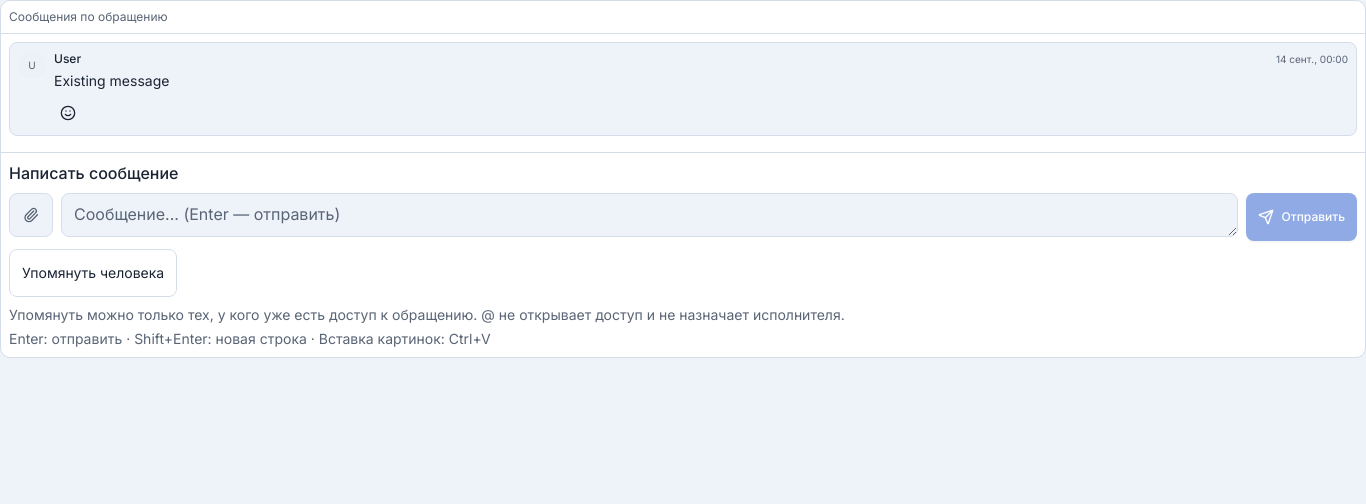
disconnect settles a send immediately and disables retry until the next successful join
This screenshot has width=1366, height=504.
expect the text "Existing message" is shown: met, box [54, 72, 169, 89]
Type "Keep this send" into the text box with placeholder "Сообщение... (Enter — отправить)" at (649, 215), box [61, 193, 1238, 237]
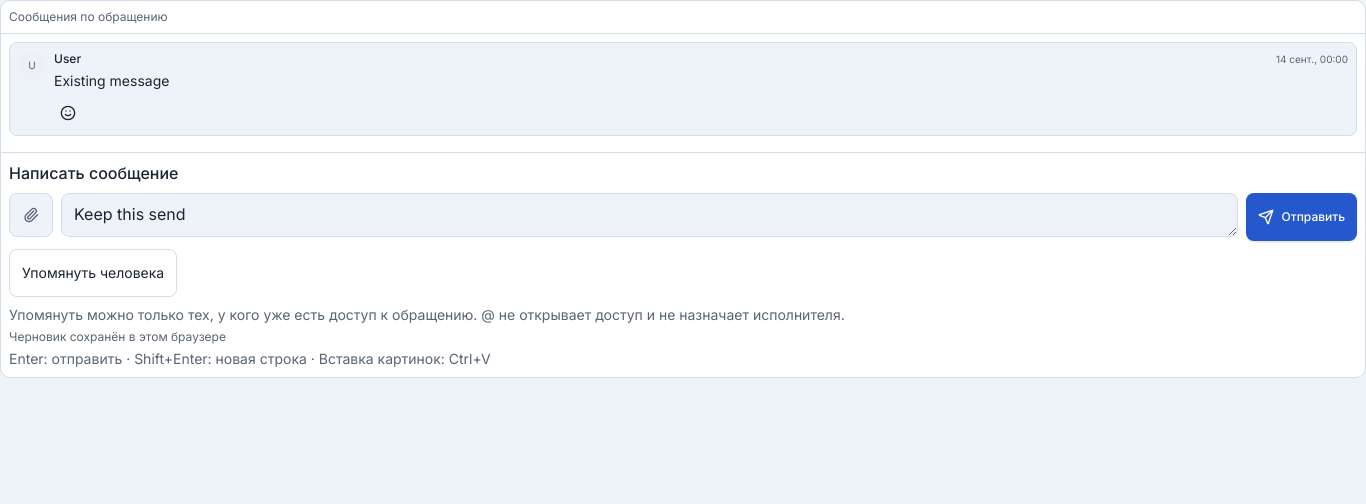
Press Enter in the text box with placeholder "Сообщение... (Enter — отправить)", box [61, 193, 1238, 237]
Wait 10000 ms
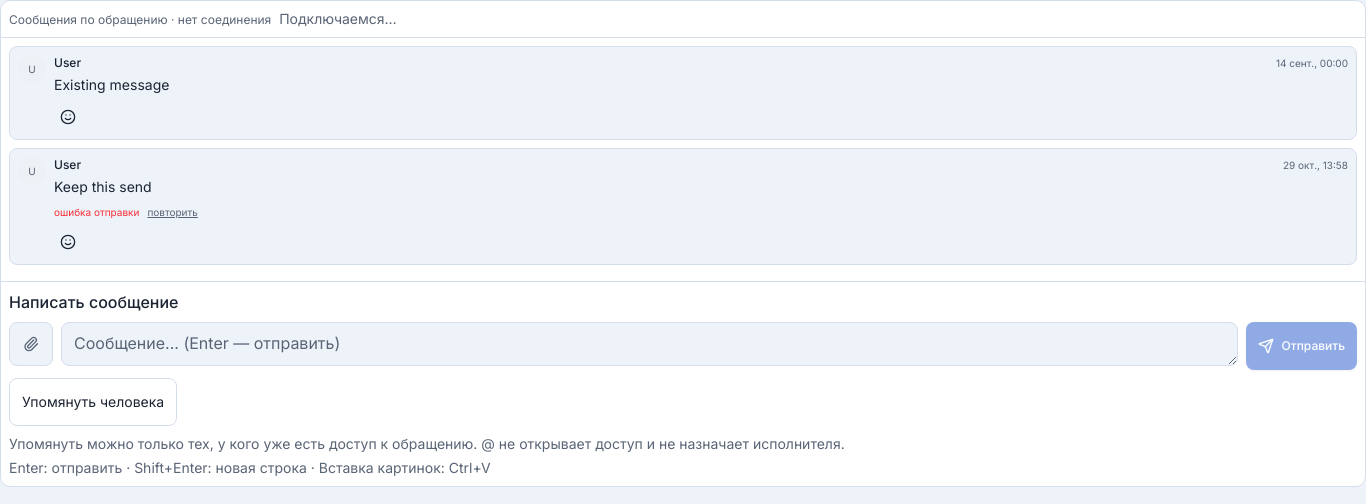
expect the button "повторить" is disabled: met, box [147, 205, 198, 220]
